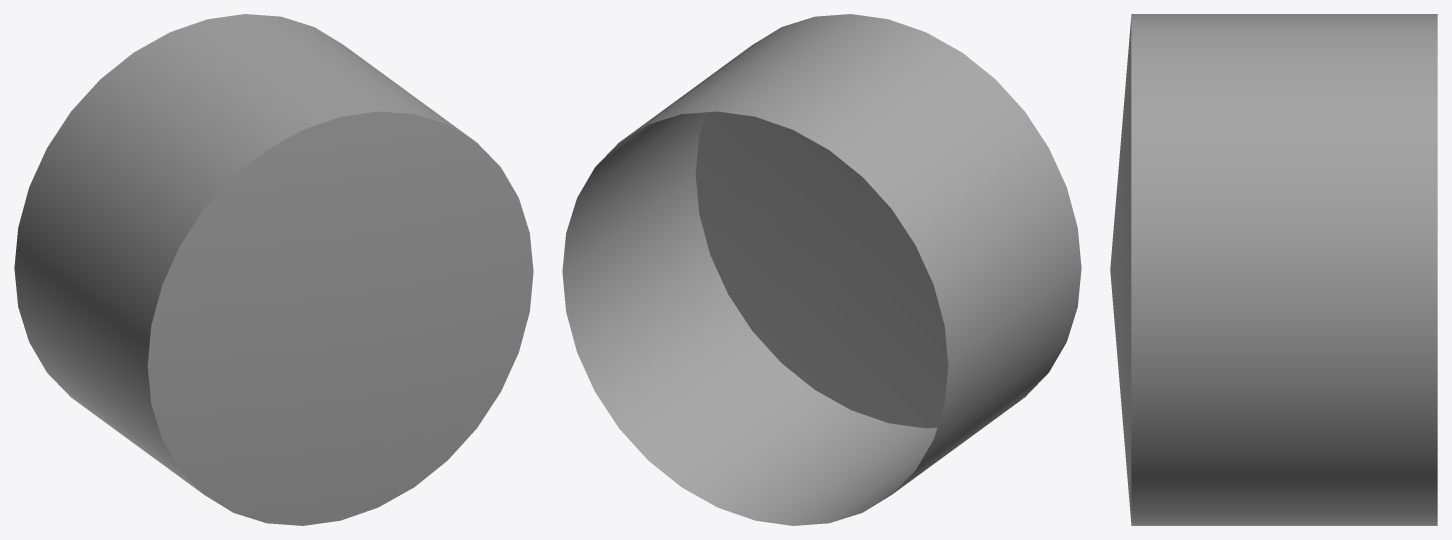
The model's file is yokokui.fbx.
The picture shows the model from 3 angles, left to right: view 1: azimuth 30°, elevation 25°; view 2: azimuth 150°, elevation 25°; view 3: azimuth 270°, elevation 25°; orthographic projection. The views are drawn at different scales.
Visible parts, largest first — view 1: yokokui0_05; view 2: yokokui0_05; view 3: yokokui0_05.
Part boxes in pixels (<box>): yokokui0_05: <box>14,14,533,525</box>; yokokui0_05: <box>562,14,1081,525</box>; yokokui0_05: <box>1110,14,1437,525</box>.
Bounding box in the file's own units: 7.03 × 7.03 × 4.49.
